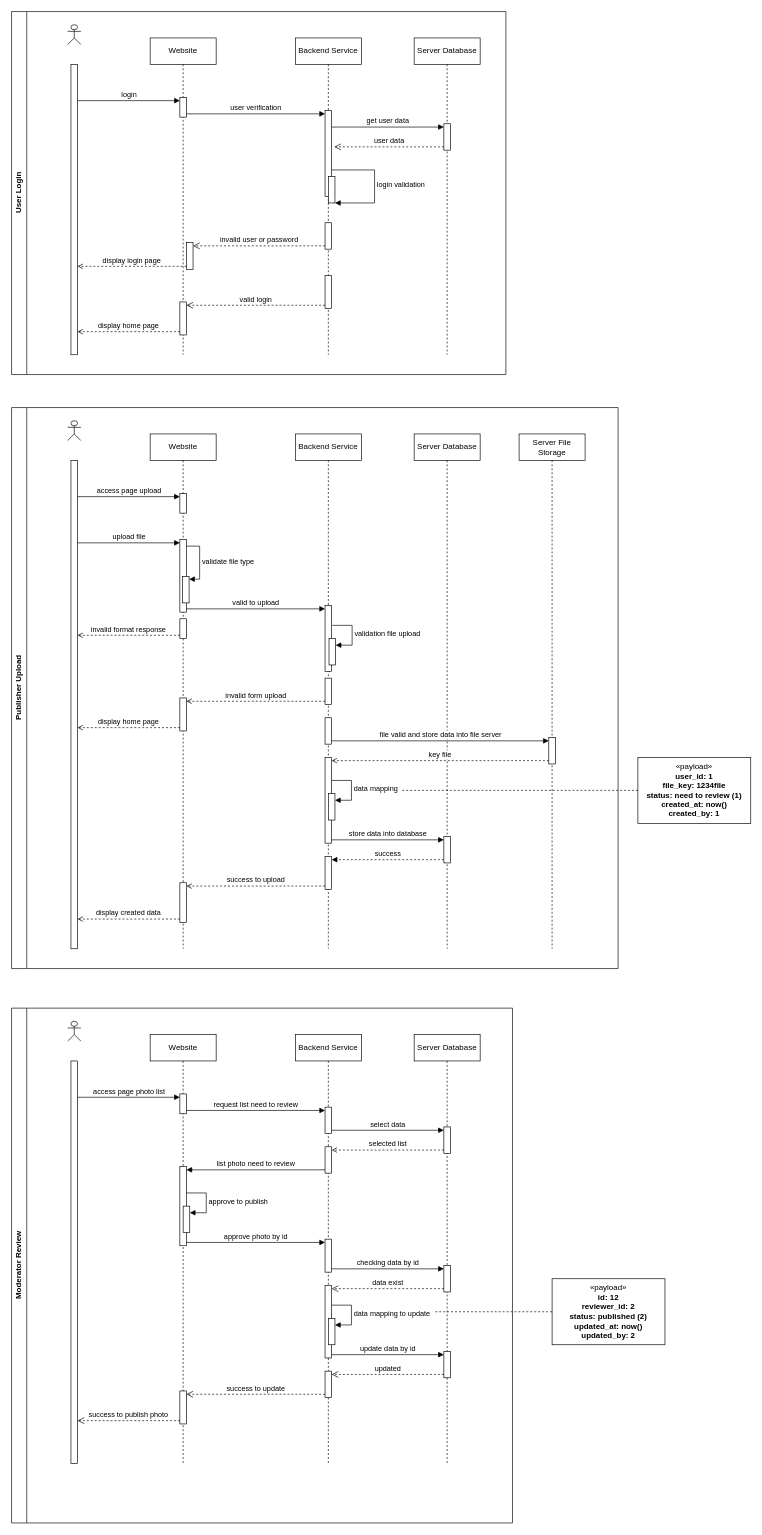
Image size: 762x1535. Some labels were removed from this diagram. The box of each missing label's shape, as (x1, y1, x2, y2) in pixels:
Moderator: (67, 1021, 81, 1041)
Publisher: (67, 420, 81, 441)
User: (67, 24, 81, 45)
